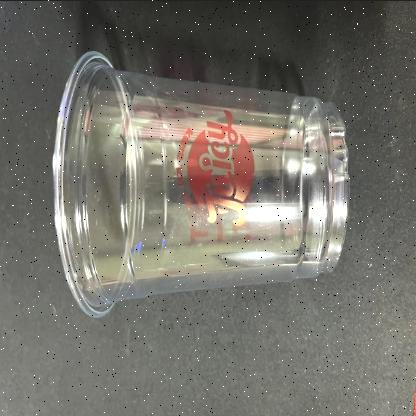Others: (47, 43, 357, 321)
